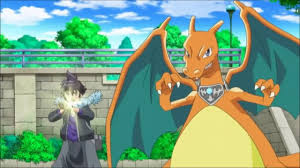charizard: (112, 3, 300, 166)
